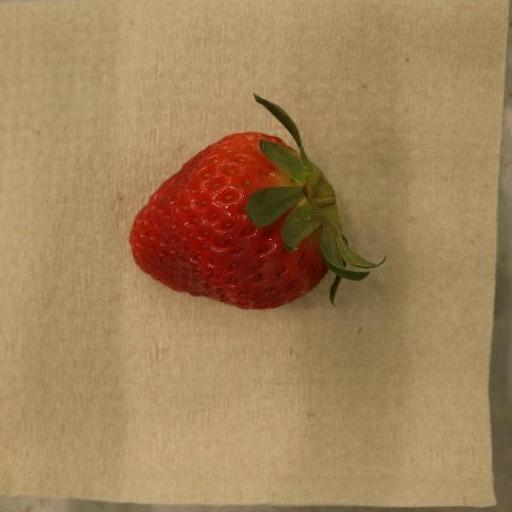Strawberry: (130, 95, 386, 311)
